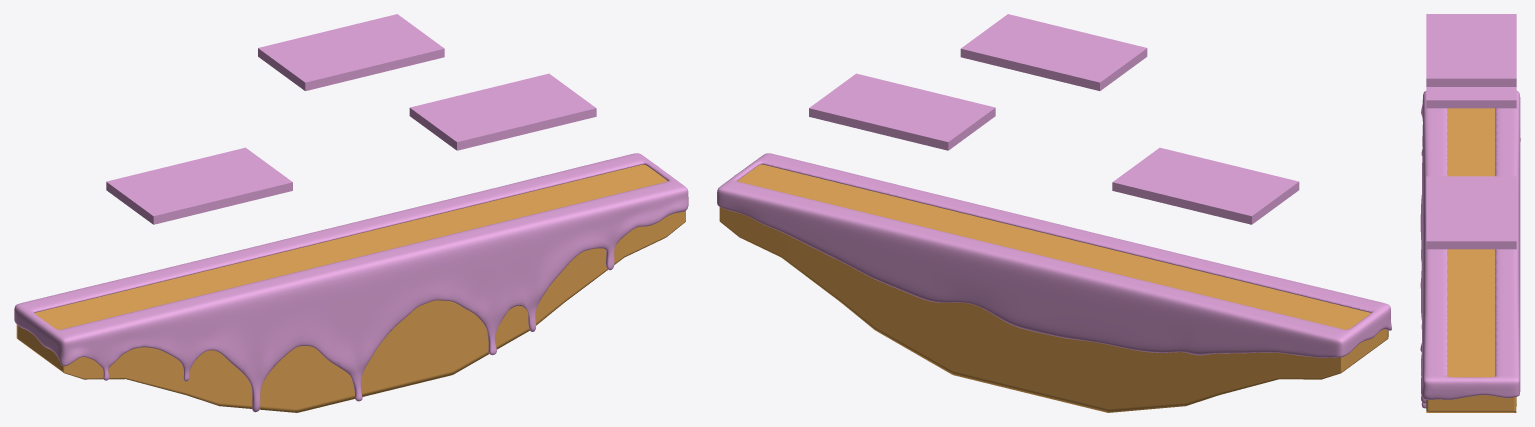
Rendered from stage002.fbx.
3 views of the same model, side by side, from view 1: azimuth 30°, elevation 25°; view 2: azimuth 150°, elevation 25°; view 3: azimuth 270°, elevation 25° (orthographic). The views are drawn at different scales.
Visible parts, largest first — view 1: icing, Stage, Cube.002, Cube.001, Cube; view 2: icing, Stage, Cube, Cube.001, Cube.002; view 3: icing, Stage, Cube.002, Cube.001, Cube.
Boxes of the visible parts, bbox=[...] form: icing: bbox=[14, 153, 688, 412]; Stage: bbox=[16, 164, 685, 412]; Cube.002: bbox=[409, 73, 596, 150]; Cube.001: bbox=[258, 14, 444, 90]; Cube: bbox=[106, 147, 292, 224]; icing: bbox=[717, 153, 1391, 357]; Stage: bbox=[719, 164, 1388, 412]; Cube: bbox=[1112, 147, 1299, 224]; Cube.001: bbox=[960, 14, 1147, 90]; Cube.002: bbox=[809, 73, 995, 150]; icing: bbox=[1420, 91, 1520, 408]; Stage: bbox=[1426, 108, 1516, 412]; Cube.002: bbox=[1426, 176, 1516, 249]; Cube.001: bbox=[1426, 14, 1516, 86]; Cube: bbox=[1426, 87, 1516, 108].
Bounding box in the file's own units: 1531 × 769 × 222.
